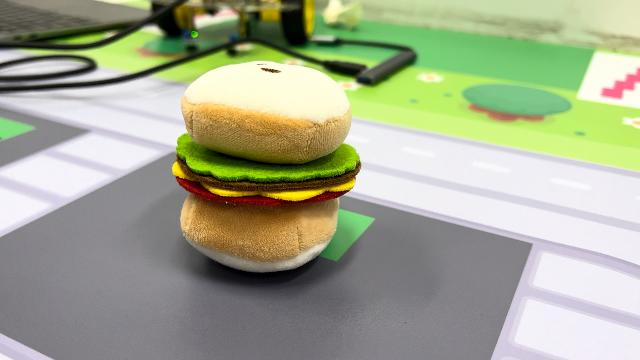sandwich: (171, 58, 363, 274)
